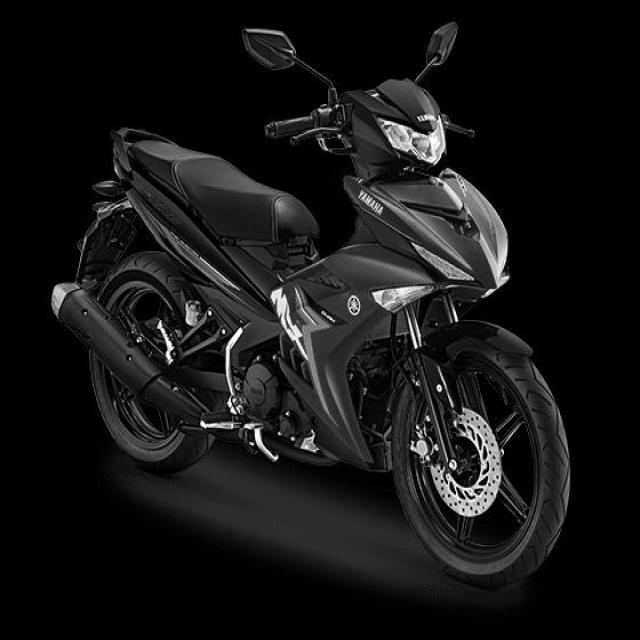Motorcycle: (51, 24, 572, 588)
